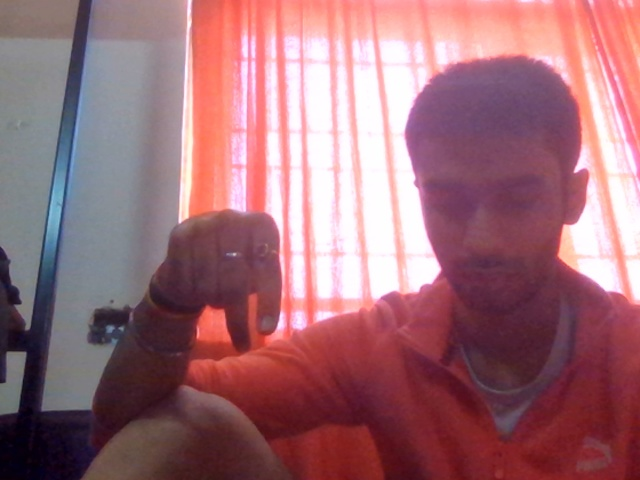P: (128, 186, 303, 383)
